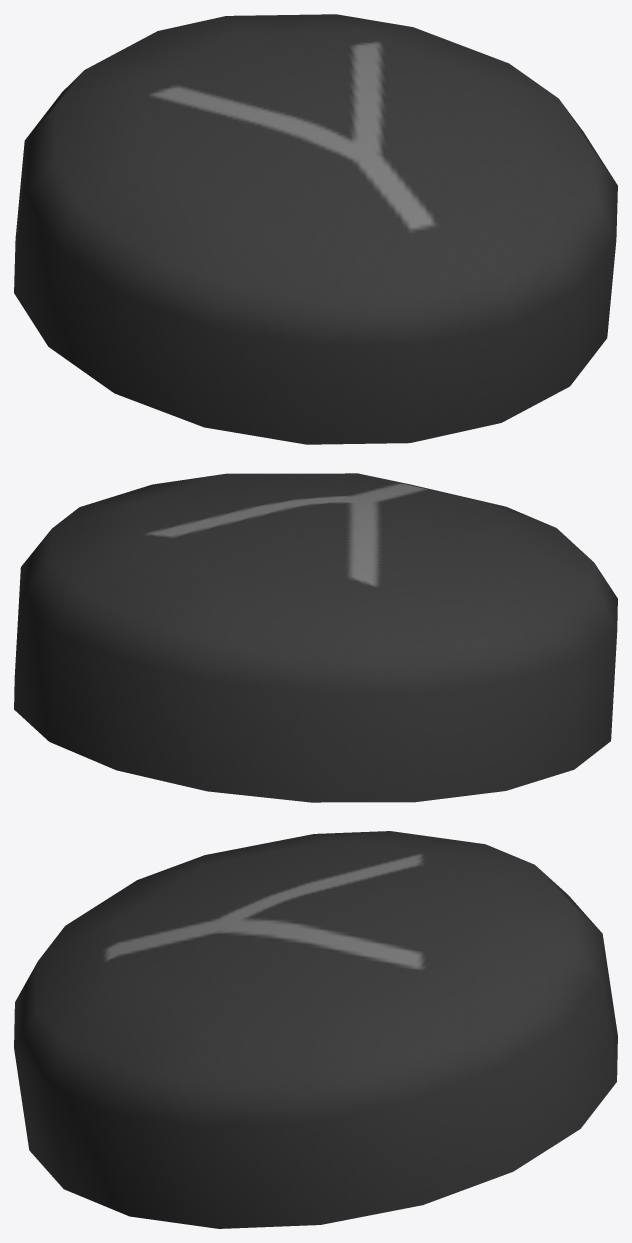
Rendered from oculus_quest_controller_left_buttonY.obj.
The picture shows the model from 3 angles, top to bottom: view 1: azimuth 30°, elevation 25°; view 2: azimuth 150°, elevation 25°; view 3: azimuth 270°, elevation 25°; orthographic projection.
Bounding box in the file's own units: 0.0105 × 0.00437 × 0.0105.
